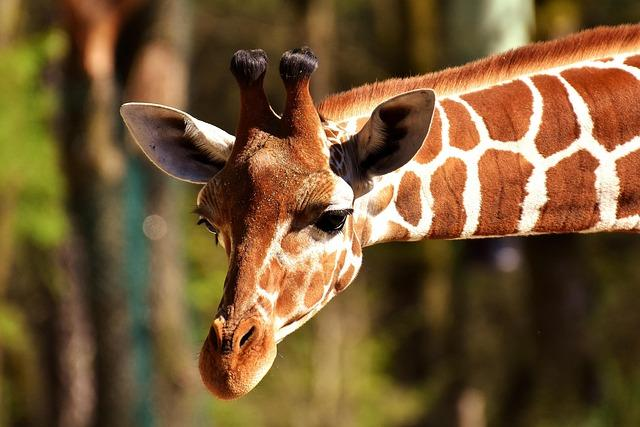Non_Gorille: (108, 18, 591, 387)
